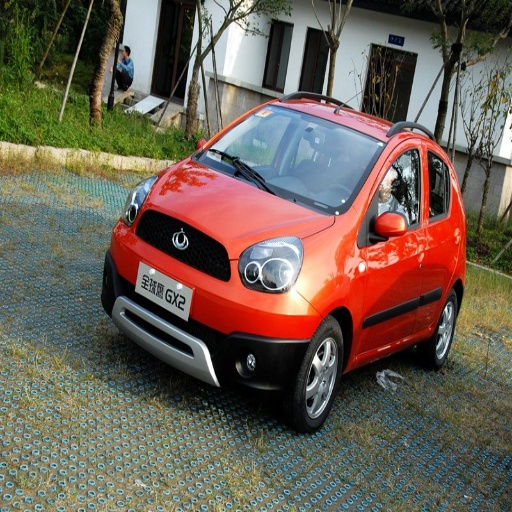front_bumper: (118, 271, 318, 389)
front_glass: (198, 106, 384, 214)
front_left_door: (361, 132, 425, 351)
front_left_light: (243, 237, 302, 292)
